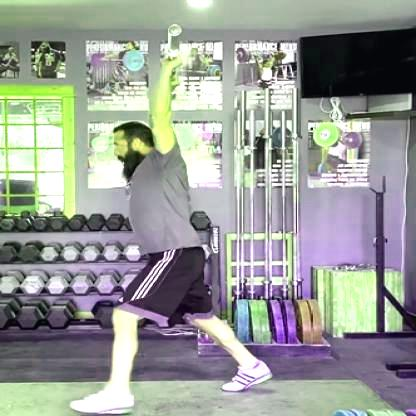Barbell: (167, 22, 184, 40)
